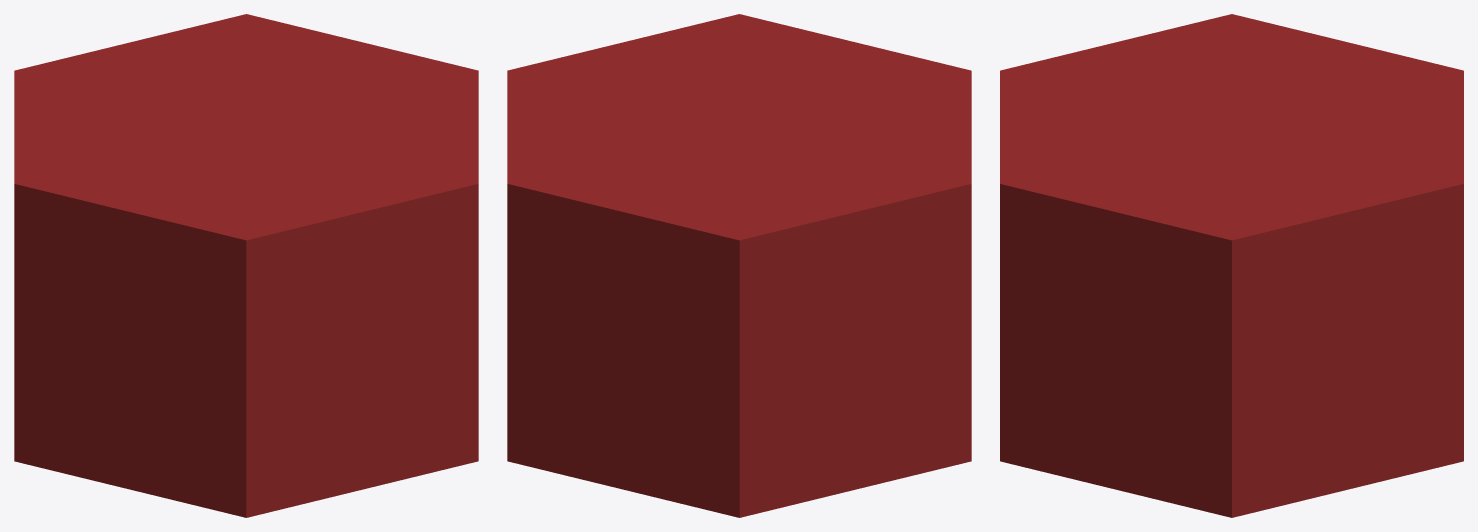
File: icon_weapons.obj
The picture shows the model from 3 angles, left to right: view 1: azimuth 30°, elevation 25°; view 2: azimuth 150°, elevation 25°; view 3: azimuth 270°, elevation 25°; orthographic projection.
Bounding box in the file's own units: 0.14 × 0.08 × 0.1212.
